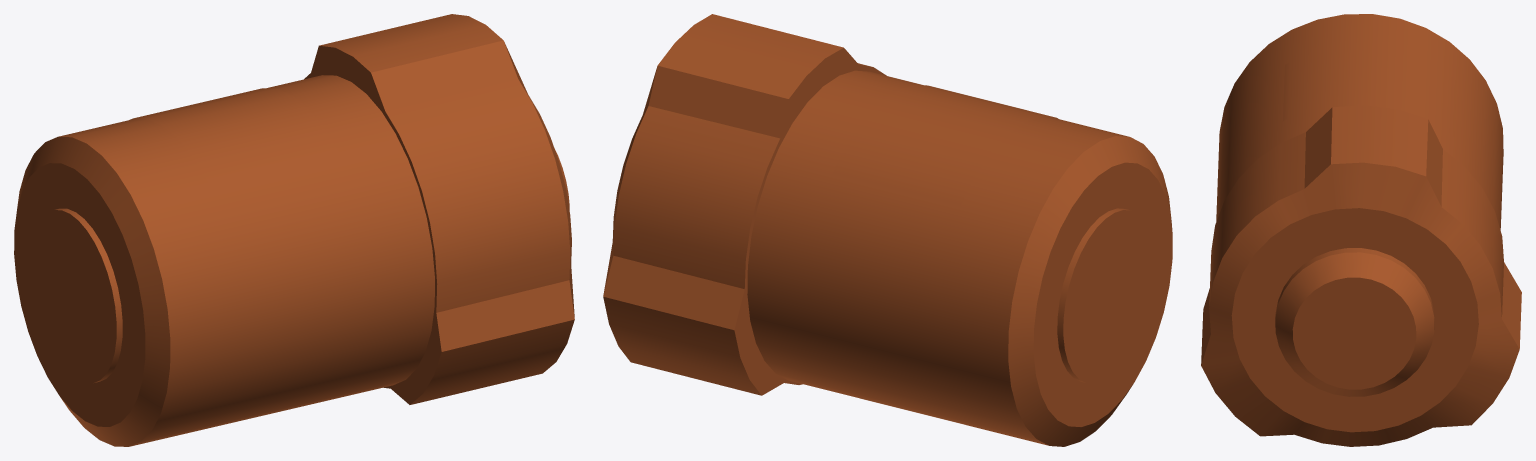
The model's file is RobotArm_Hidraulic.glb.
The picture shows the model from 3 angles, left to right: view 1: azimuth 30°, elevation 25°; view 2: azimuth 150°, elevation 25°; view 3: azimuth 270°, elevation 25°; orthographic projection. The views are drawn at different scales.
Parts seen in each view (by area): view 1: RobotArmHydraulic; view 2: RobotArmHydraulic; view 3: RobotArmHydraulic.
Part boxes in pixels (x1,y1,x2,y2): RobotArmHydraulic: (14, 14, 574, 446); RobotArmHydraulic: (603, 14, 1172, 446); RobotArmHydraulic: (1201, 14, 1521, 446).
Bounding box in the file's own units: 0.5815 × 0.3833 × 0.3918.
